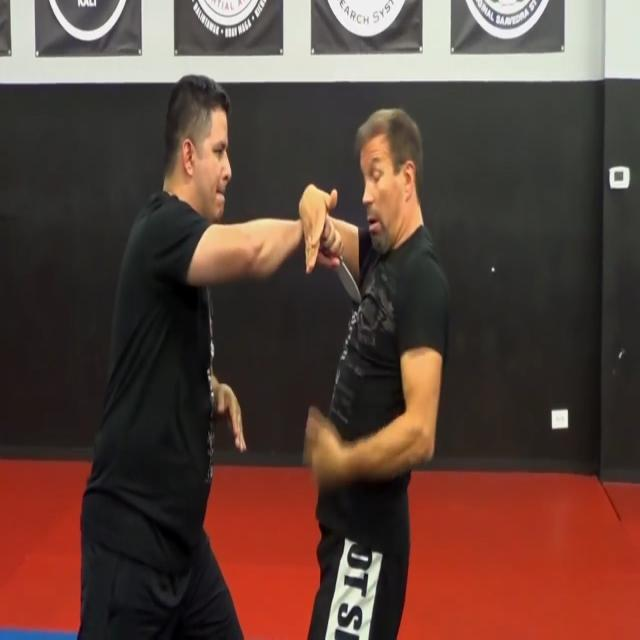knife: (339, 264, 365, 310)
